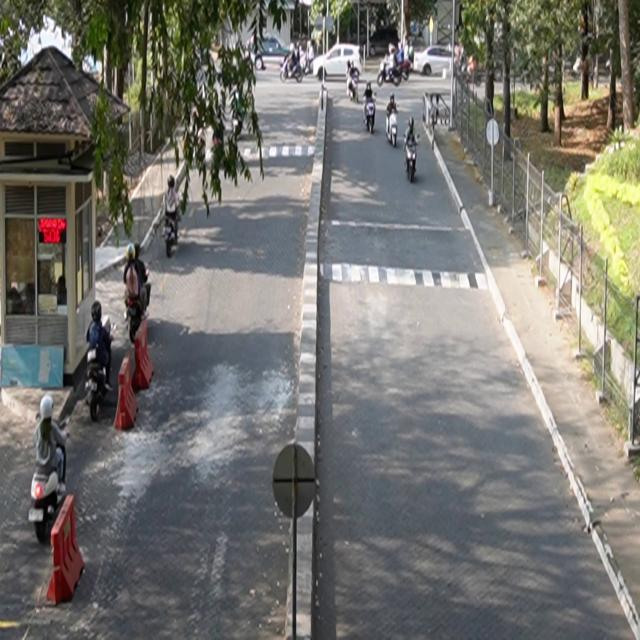car: (313, 44, 363, 82), (413, 45, 460, 77)
